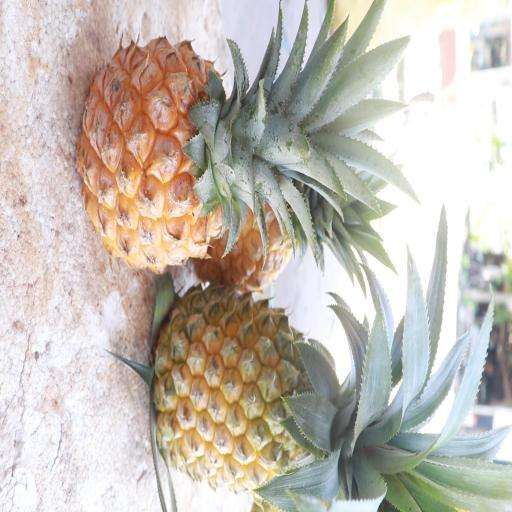Pineapple - v8 v1: (73, 26, 338, 282), (146, 279, 392, 490)
